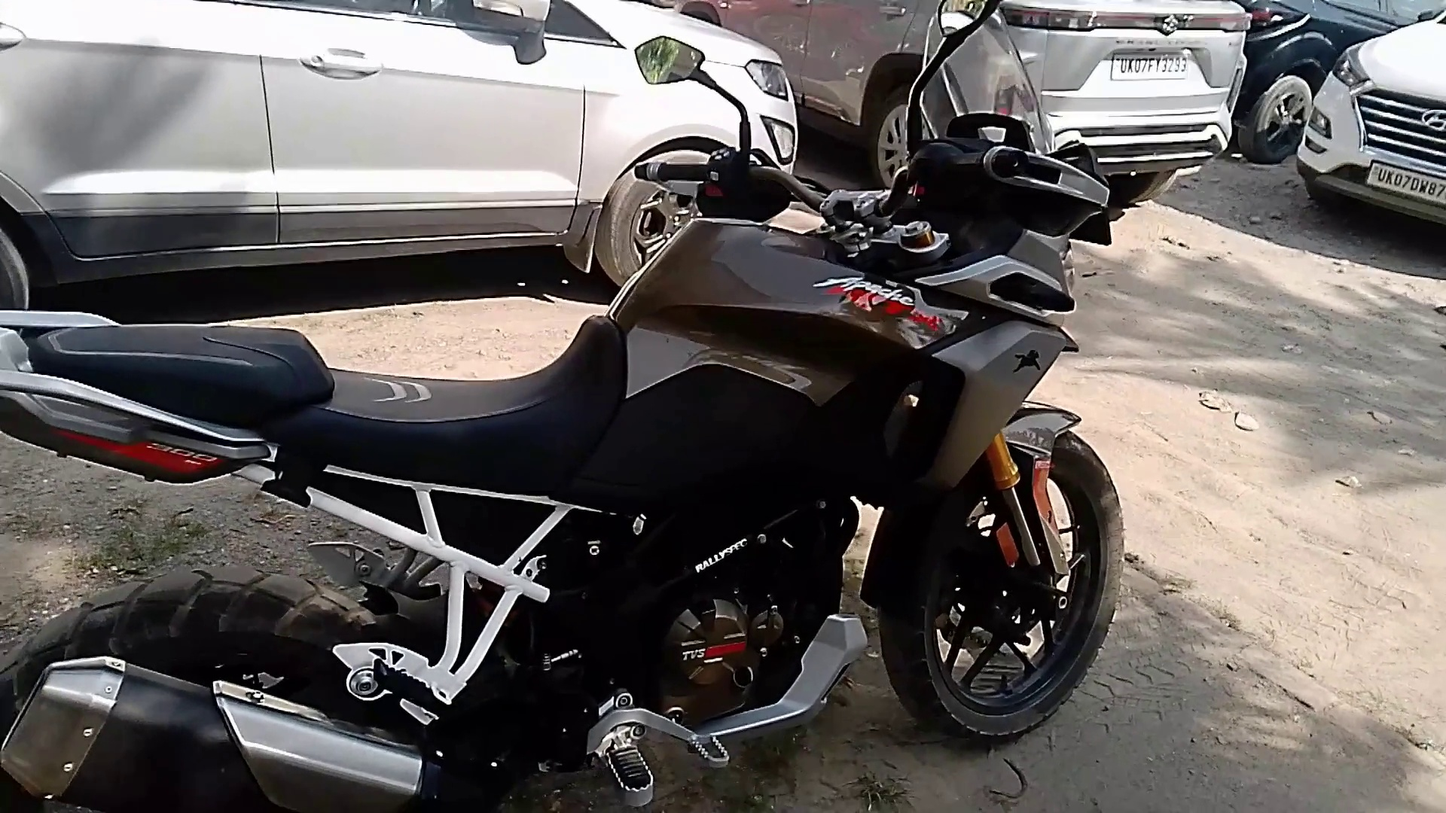engine: (644, 559, 800, 743)
